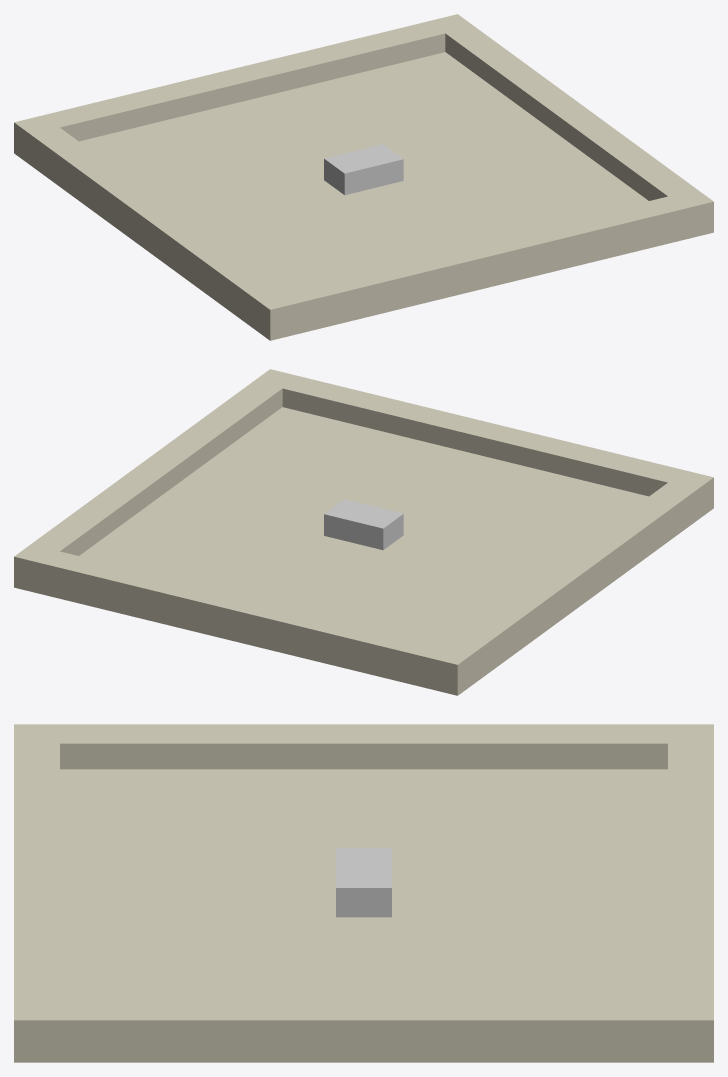
The model's file is Roof 41.FBX.
3 renders of one model, top to bottom at view 1: azimuth 30°, elevation 25°; view 2: azimuth 150°, elevation 25°; view 3: azimuth 270°, elevation 25°, orthographic. The views are drawn at different scales.
Parts seen in each view (by area): view 1: Group187, Group188; view 2: Group187, Group188; view 3: Group187, Group188.
Boxes of the visible parts, box(x1,y1,x2,y2) form: Group187: box(14, 14, 713, 340); Group188: box(324, 144, 403, 195); Group187: box(14, 369, 713, 695); Group188: box(324, 499, 403, 550); Group187: box(14, 724, 713, 1062); Group188: box(336, 848, 391, 917).
Bounding box in the file's own units: 29.53 × 2.36 × 29.53.
